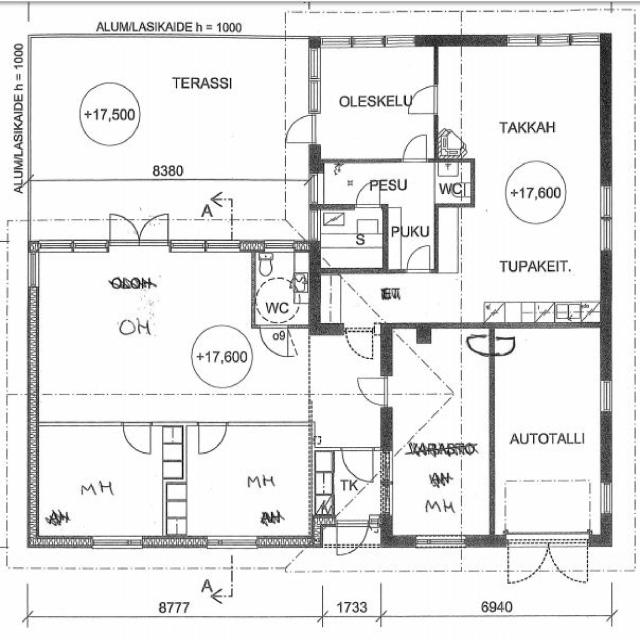door: (506, 544, 551, 596), (549, 544, 593, 596), (339, 446, 376, 483), (354, 372, 392, 407), (283, 111, 321, 145), (406, 80, 441, 116), (107, 210, 142, 246), (195, 419, 229, 456), (336, 517, 370, 554), (136, 210, 171, 245), (120, 420, 154, 456), (344, 324, 375, 362), (402, 241, 436, 275), (258, 323, 290, 358), (399, 130, 431, 163), (352, 179, 382, 210), (337, 532, 365, 556)
window: (594, 179, 618, 258), (36, 416, 124, 434), (505, 30, 577, 51), (37, 236, 113, 255), (304, 44, 323, 115), (88, 532, 146, 552), (204, 533, 259, 552), (534, 31, 592, 49), (186, 238, 243, 255), (349, 33, 405, 50), (414, 534, 466, 552), (318, 34, 374, 50), (596, 214, 616, 255), (596, 375, 615, 417), (596, 180, 615, 222), (24, 249, 42, 292), (169, 237, 211, 254), (502, 31, 540, 49), (598, 479, 615, 518), (382, 33, 420, 49)
zone: (34, 240, 306, 422), (437, 39, 600, 326), (31, 422, 308, 542), (491, 324, 606, 538), (388, 328, 490, 539), (313, 43, 437, 162), (317, 206, 386, 272), (253, 250, 310, 325), (322, 572, 382, 618), (434, 160, 474, 204)
